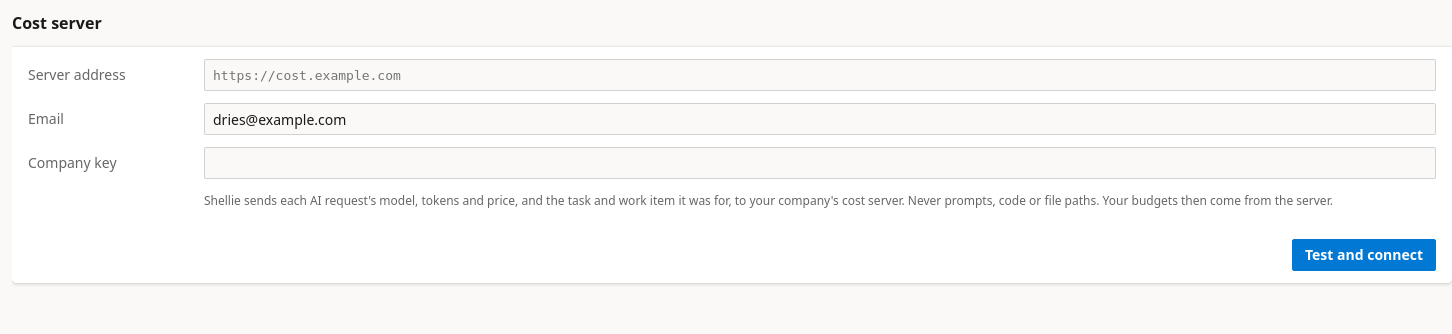
CostServerSection › shows the error text
This screenshot has width=1452, height=334.
In the field labelled "Server address": coordinates (820, 75) [204,59,1436,91], type "https://cost.example"
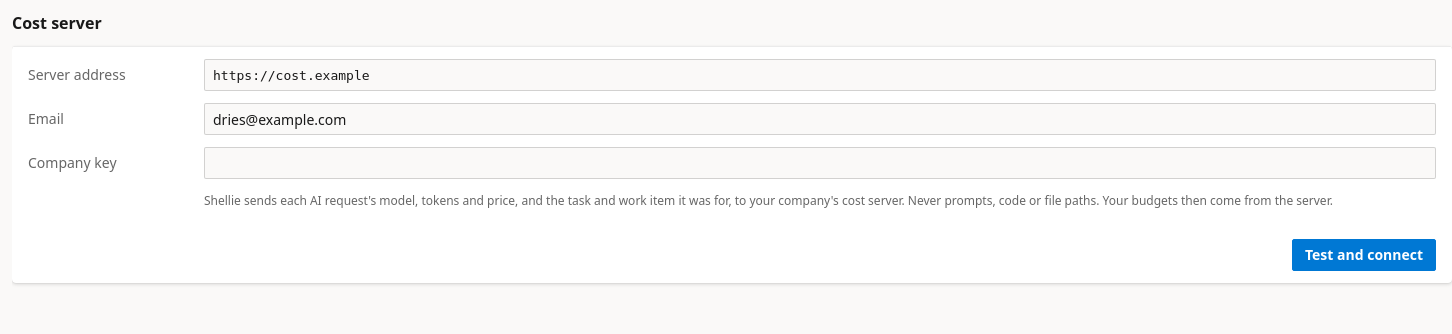
In the password field labelled "Company key": coordinates (820, 163) [204,147,1436,179], type "sk-wrong"
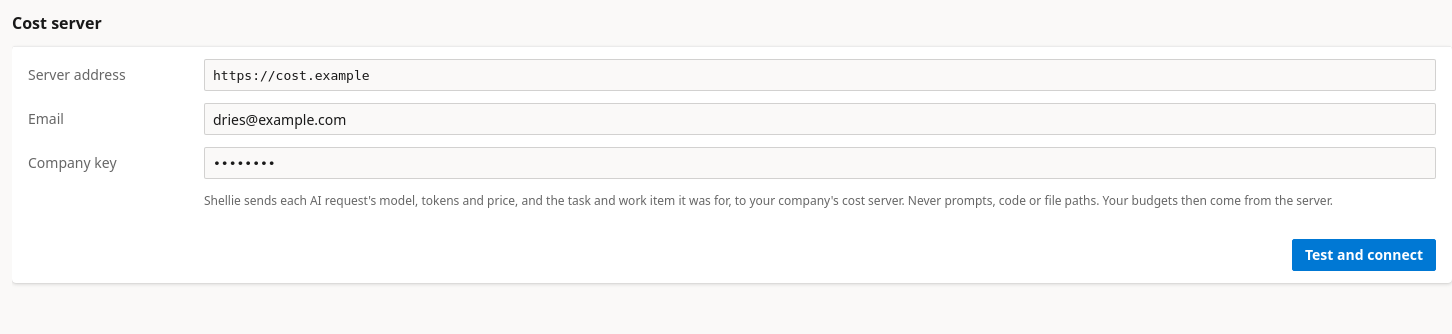
Click the button "Test and connect": coordinates (1364, 255) [1292,239,1436,271]
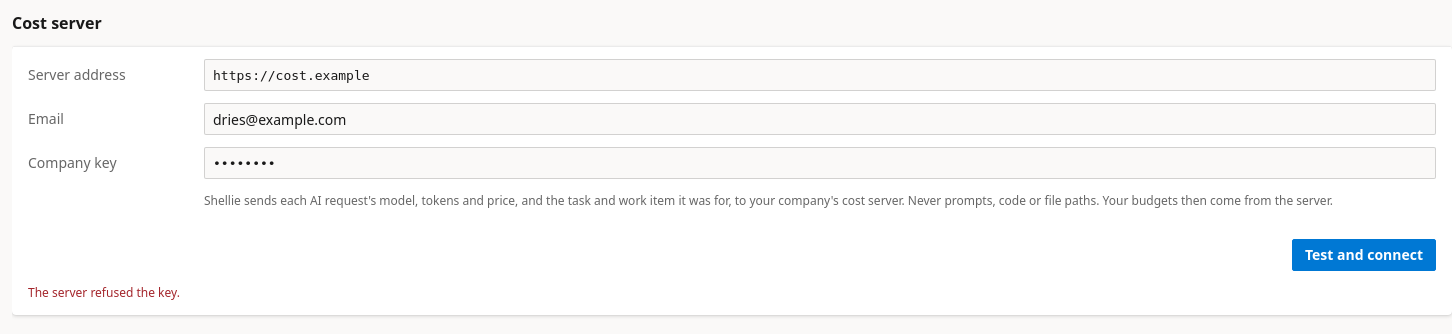
Result: the message reads "The server refused the key." at [28,284,180,301]
